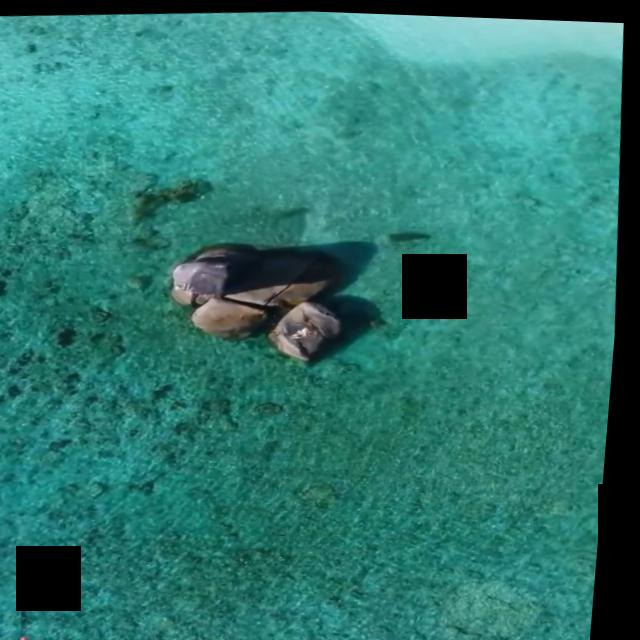Vehicle: (277, 316, 303, 333)
